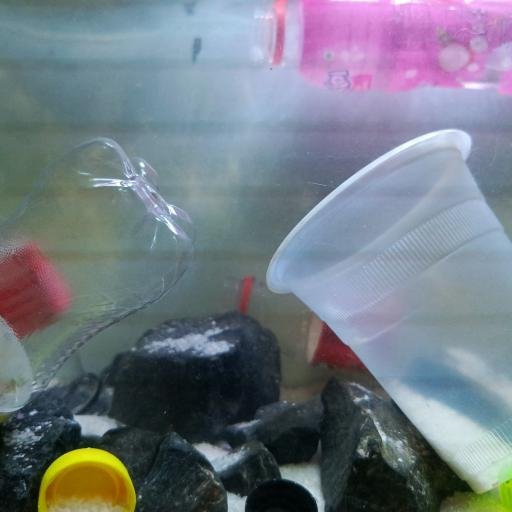bottle_cap: (35, 446, 138, 512)
plastic_bottle: (0, 133, 200, 410), (248, 2, 512, 93), (225, 277, 451, 372), (4, 234, 112, 411)
plastic_cup: (271, 131, 512, 493)
